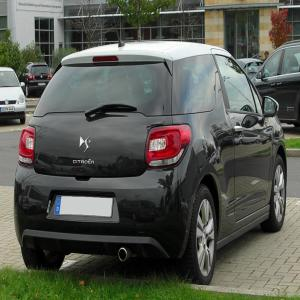Vehicle-registration-plate: (55, 195, 114, 220), (1, 108, 15, 114), (38, 83, 47, 87)
